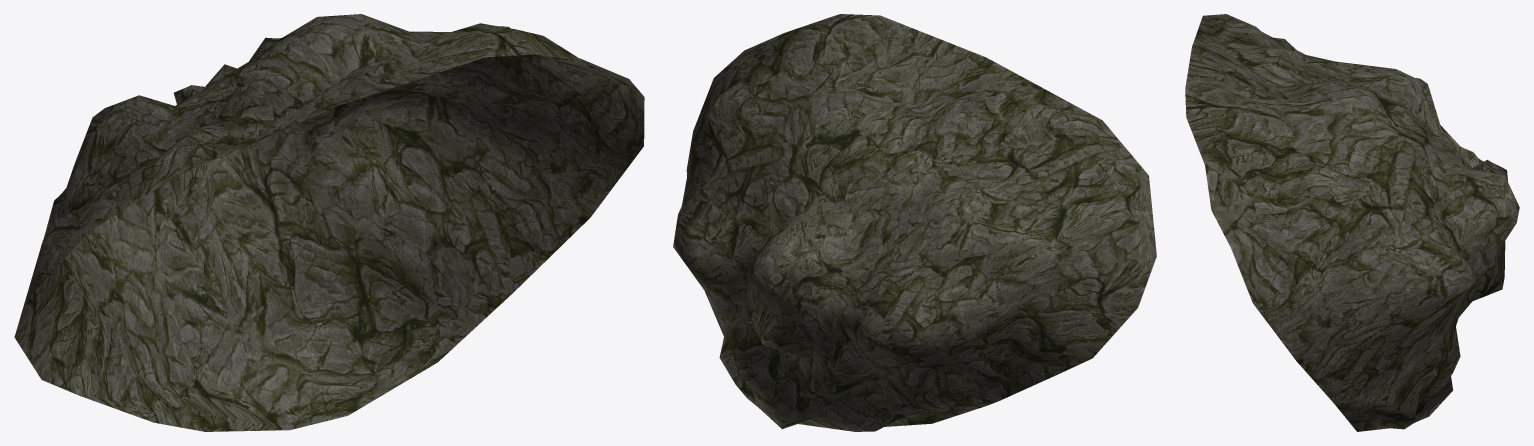
The model's file is TI_Cliff_01_n_LOD_01.fbx.
The picture shows the model from 3 angles, left to right: view 1: azimuth 30°, elevation 25°; view 2: azimuth 150°, elevation 25°; view 3: azimuth 270°, elevation 25°; orthographic projection. The views are drawn at different scales.
Parts seen in each view (by area): view 1: TI_Cliff_01_n_LOD_01; view 2: TI_Cliff_01_n_LOD_01; view 3: TI_Cliff_01_n_LOD_01.
Boxes of the visible parts, x1=… form: TI_Cliff_01_n_LOD_01: x1=14, y1=14, x2=644, y2=431; TI_Cliff_01_n_LOD_01: x1=673, y1=14, x2=1156, y2=431; TI_Cliff_01_n_LOD_01: x1=1185, y1=14, x2=1519, y2=431.
Size of the model in its own units: 9.94 by 6.81 by 5.89.
